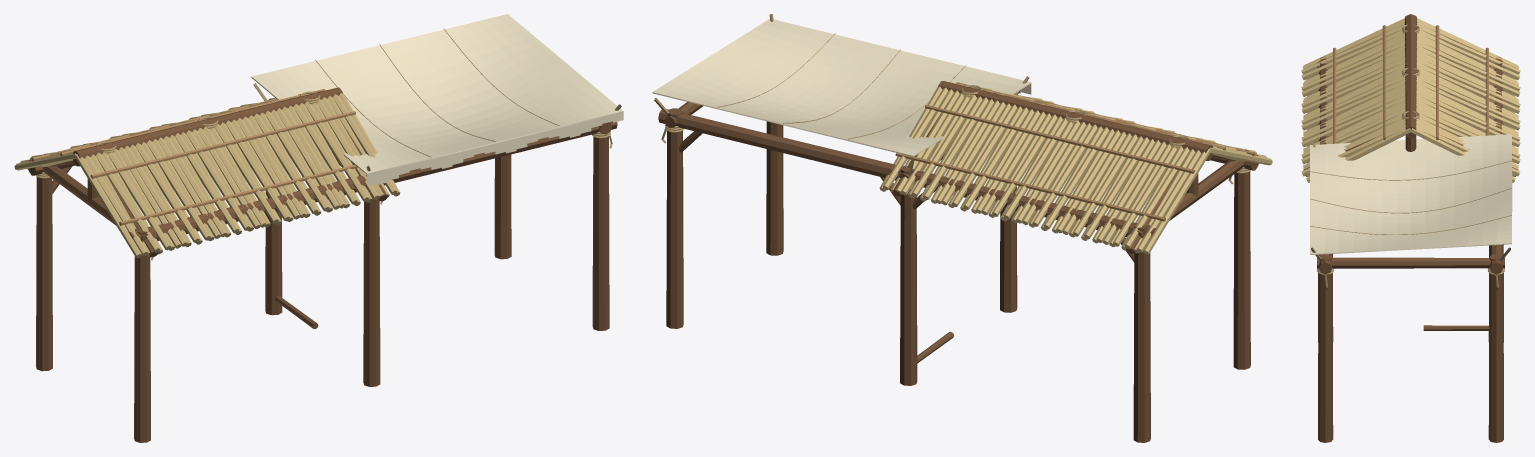
3 renders of one model, left to right at view 1: azimuth 30°, elevation 25°; view 2: azimuth 150°, elevation 25°; view 3: azimuth 270°, elevation 25°, orthographic. The views are drawn at different scales.
Parts seen in each view (by area): view 1: BA-0005 batched; view 2: BA-0005 batched; view 3: BA-0005 batched.
Boxes of the visible parts, x1,y1,x2,y2 form: BA-0005 batched: (14, 14, 623, 442); BA-0005 batched: (652, 14, 1272, 442); BA-0005 batched: (1301, 14, 1520, 442).
Bounding box in the file's own units: 5.78 × 2.88 × 2.57.
